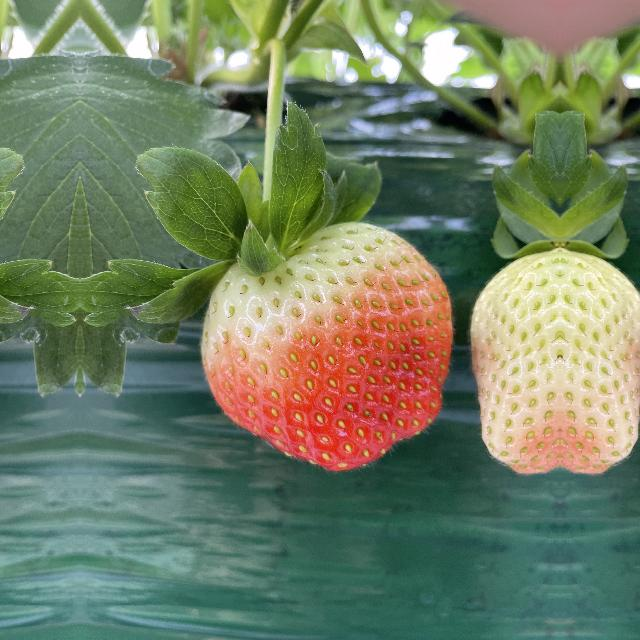Health_50: (473, 238, 559, 476), (561, 238, 640, 476)
Health_75: (190, 207, 464, 476)
